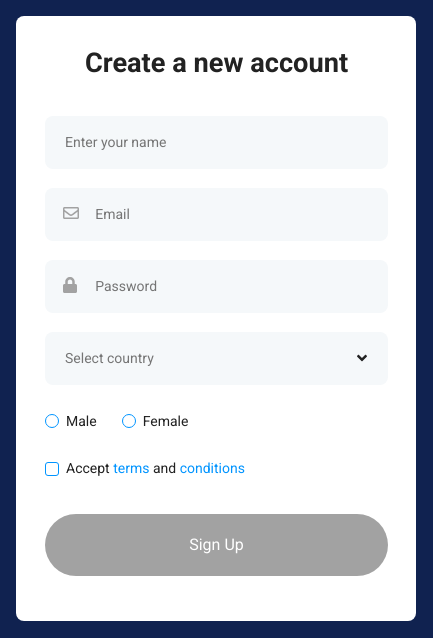
Test: Error handling › Email input value must have email pattern
Type "55555555" into the field with placeholder "Email" at (232, 214), box x1=93 y1=205 x2=370 y2=224
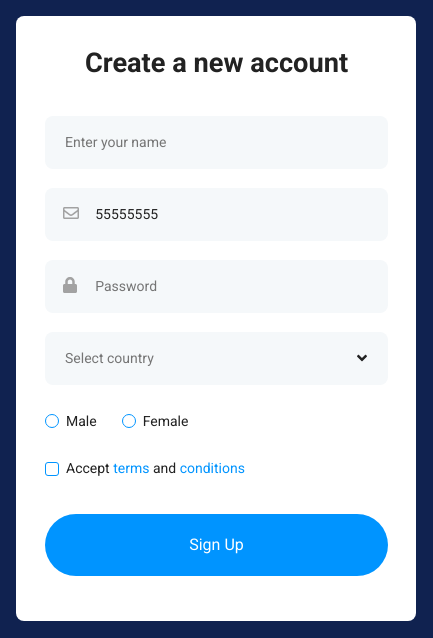
Leave the field with placeholder "Email", box x1=93 y1=205 x2=370 y2=224
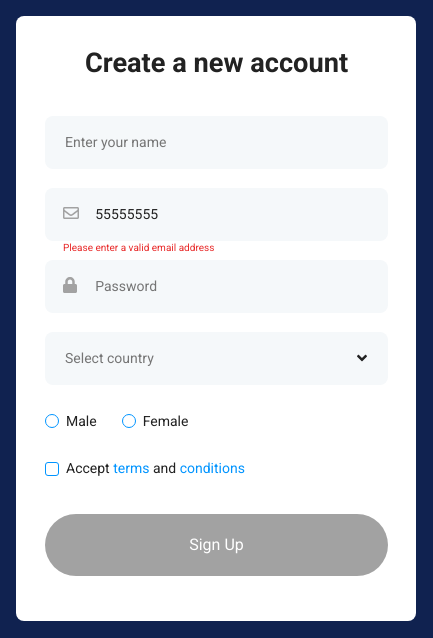
Now the text "Please enter a valid email address" is shown, box x1=63 y1=242 x2=214 y2=253
Replace the text in the field with placeholder "Email" with "example@mail" at (232, 214), box x1=93 y1=205 x2=370 y2=224
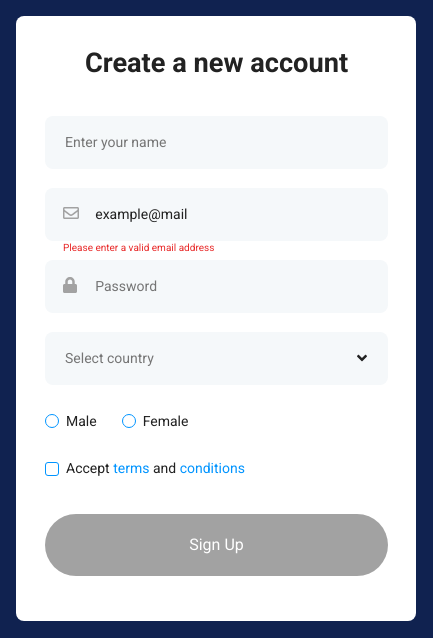
Now the text "Please enter a valid email address" is shown, box x1=63 y1=242 x2=214 y2=253
Replace the text in the field with placeholder "Email" with "example.mail@domen.net" at (232, 214), box x1=93 y1=205 x2=370 y2=224
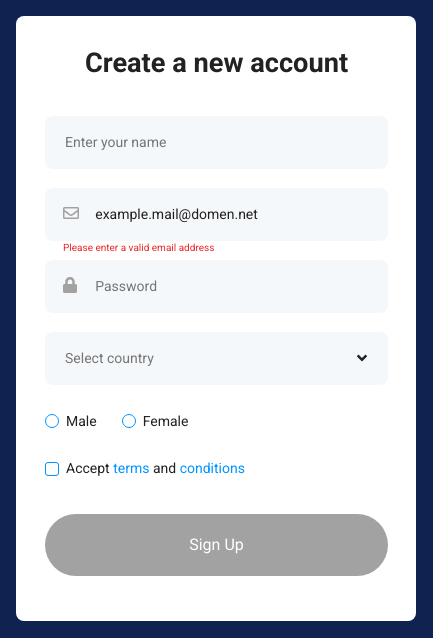
Leave the field with placeholder "Email", box x1=93 y1=205 x2=370 y2=224
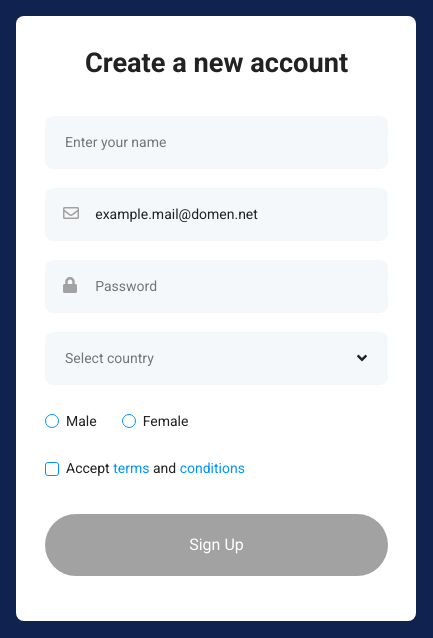
Now the text "Please enter a valid email address" is gone
